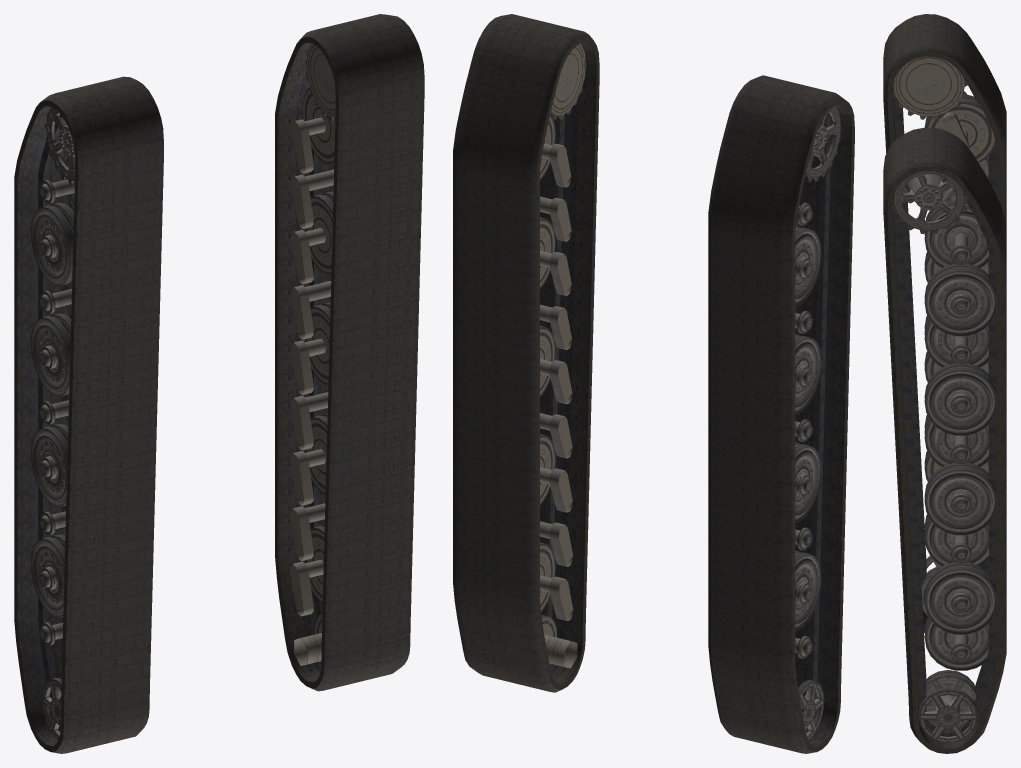
Rendered from Chassis.glb.
The picture shows the model from 3 angles, left to right: view 1: azimuth 30°, elevation 25°; view 2: azimuth 150°, elevation 25°; view 3: azimuth 270°, elevation 25°; orthographic projection. The views are drawn at different scales.
Parts seen in each view (by area): view 1: set_0_group_0, set_1_group_0, set_3_group_0, set_2_group_0; view 2: set_0_group_0, set_1_group_0, set_3_group_0, set_2_group_0; view 3: set_3_group_0, set_1_group_0, set_0_group_0, set_2_group_0.
Boxes of the visible parts, x1,y1,x2,y2 form: set_0_group_0: (14, 76, 163, 753); set_1_group_0: (275, 14, 424, 691); set_3_group_0: (289, 43, 335, 665); set_2_group_0: (31, 107, 74, 739); set_0_group_0: (708, 75, 854, 753); set_1_group_0: (453, 14, 599, 692); set_3_group_0: (540, 43, 585, 668); set_2_group_0: (795, 106, 840, 740); set_3_group_0: (893, 171, 996, 742); set_1_group_0: (883, 127, 1006, 753); set_0_group_0: (883, 14, 1006, 632); set_2_group_0: (893, 56, 996, 616).
Size of the model in its own units: 4.01 by 7.32 by 1.38.
Materials: 4 (4 with a texture image).
